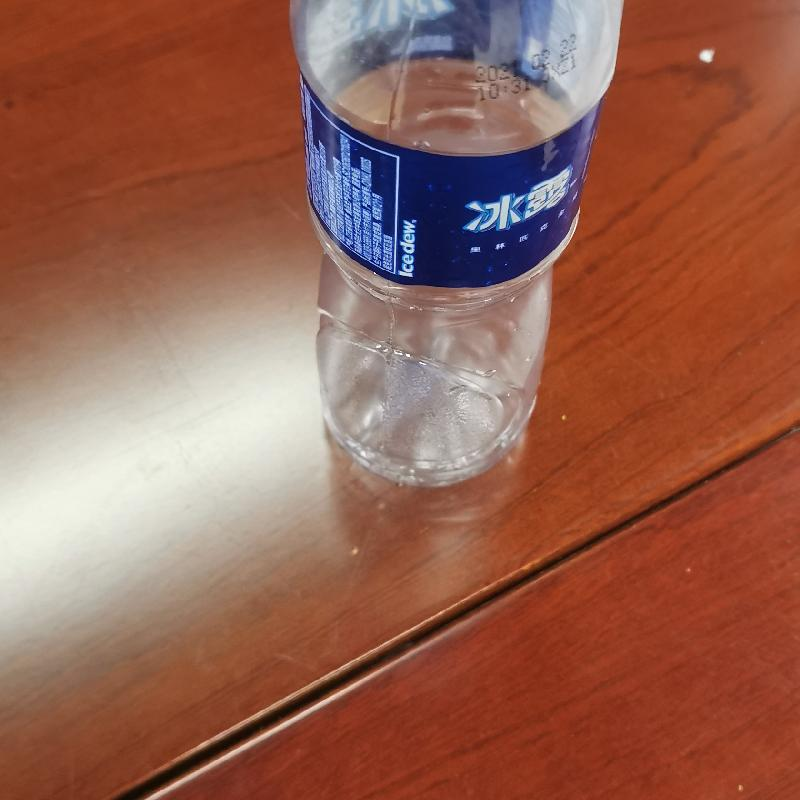bottles: (278, 0, 627, 493)
